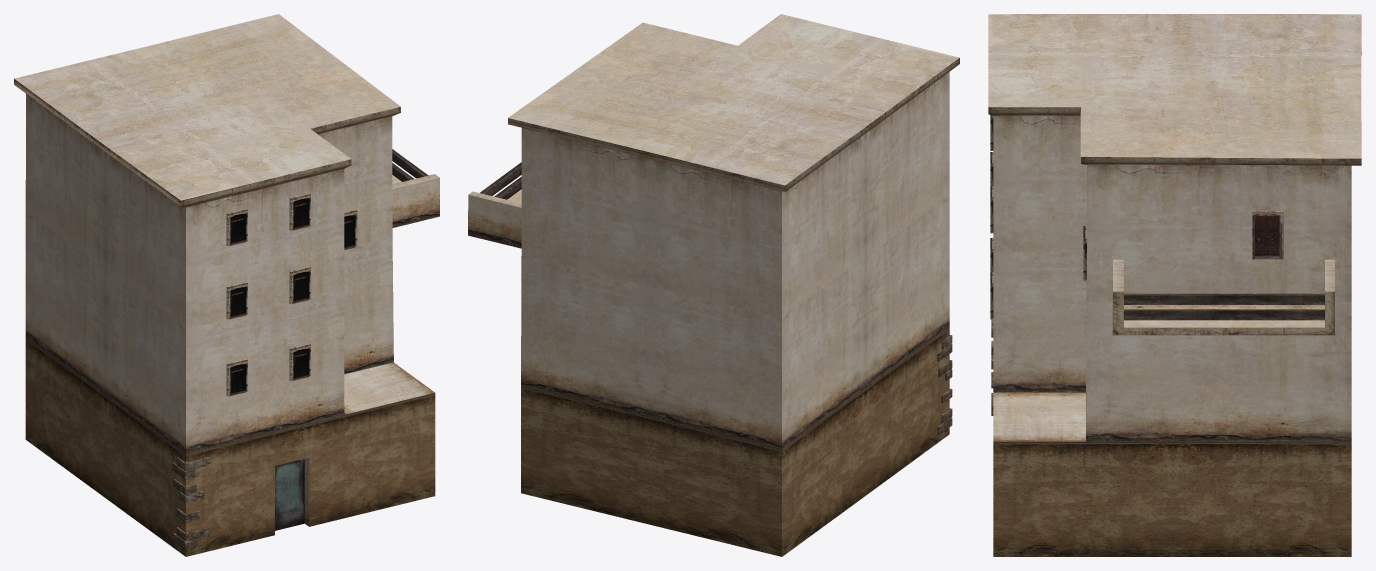
File: BuildingG1.fbx
3 views of the same model, side by side, from view 1: azimuth 30°, elevation 25°; view 2: azimuth 150°, elevation 25°; view 3: azimuth 270°, elevation 25° (orthographic). The views are drawn at different scales.
Visible parts, largest first — view 1: BuildingG; view 2: BuildingG; view 3: BuildingG.
Part boxes in pixels (left/top/right/bottom): BuildingG: left=14, top=14, right=439, bottom=556; BuildingG: left=468, top=14, right=959, bottom=556; BuildingG: left=988, top=14, right=1361, bottom=556.
Size of the model in its own units: 1260 by 1375 by 1156.
